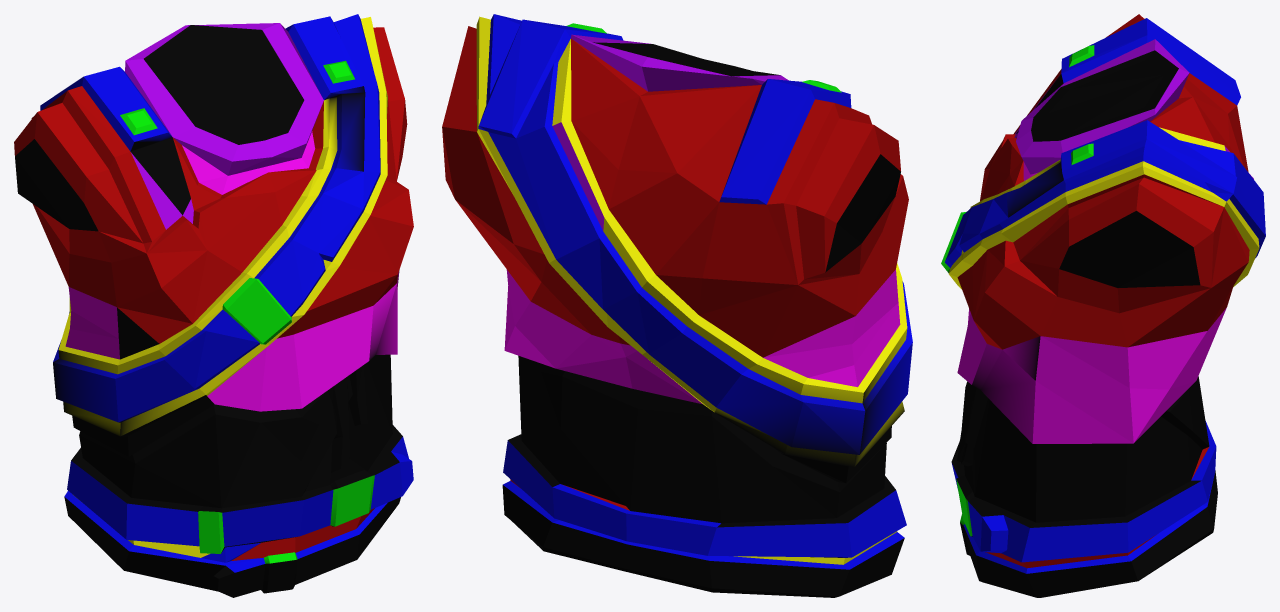
File: Chr_Torso_Male_Static_22.fbx
3 views of the same model, side by side, from view 1: azimuth 30°, elevation 25°; view 2: azimuth 150°, elevation 25°; view 3: azimuth 270°, elevation 25° (orthographic). The views are drawn at different scales.
Parts seen in each view (by area): view 1: Chr_Torso_Male_22; view 2: Chr_Torso_Male_22; view 3: Chr_Torso_Male_22.
Boxes of the visible parts, bbox=[...] form: Chr_Torso_Male_22: bbox=[14, 14, 413, 597]; Chr_Torso_Male_22: bbox=[442, 14, 912, 597]; Chr_Torso_Male_22: bbox=[941, 14, 1265, 597].
Size of the model in its own units: 50.2 by 66.21 by 39.66.
